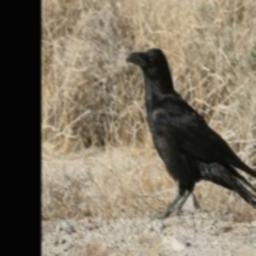Crow: (125, 46, 256, 218)
